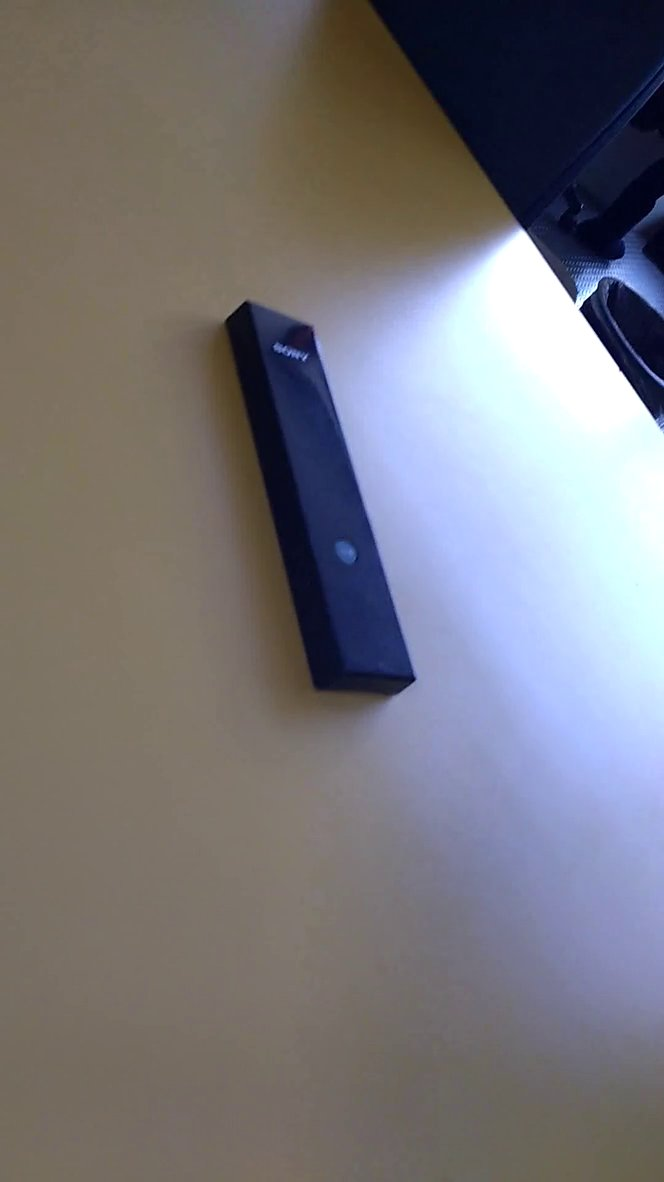remote: (215, 295, 434, 720)
